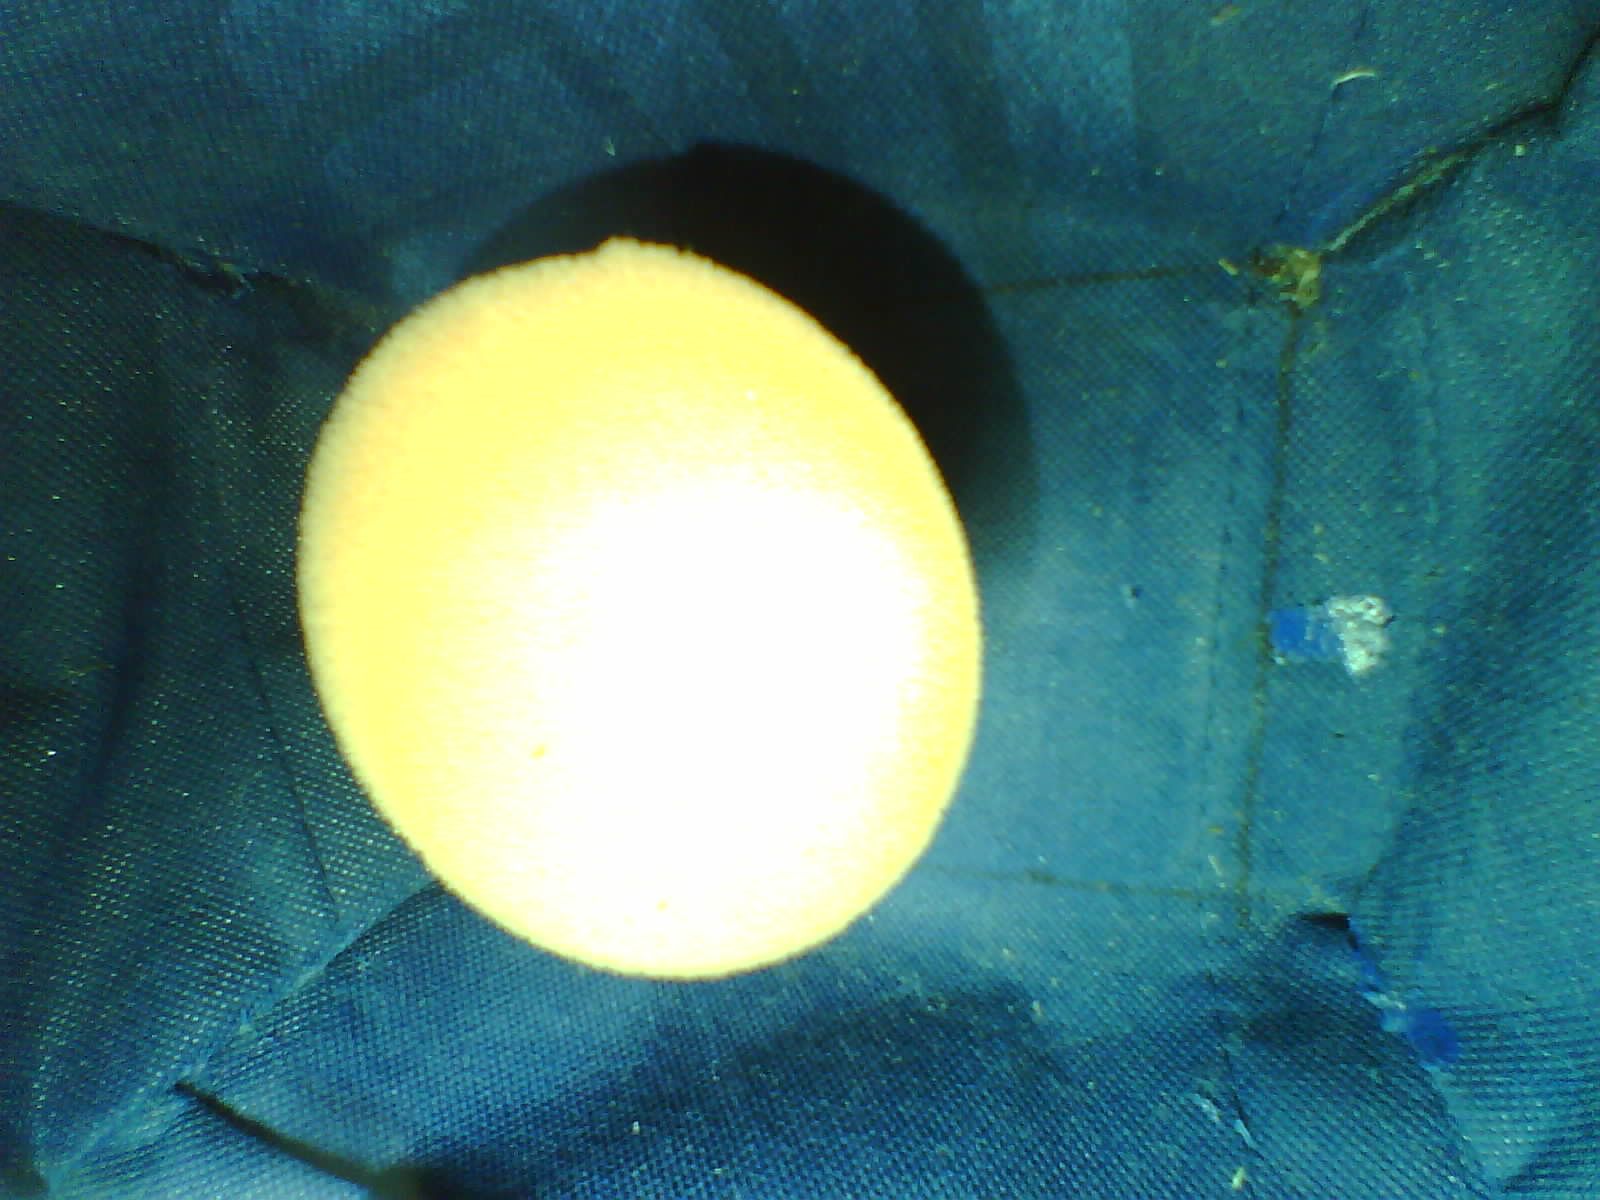cylinder-soft: (271, 224, 1017, 988)
